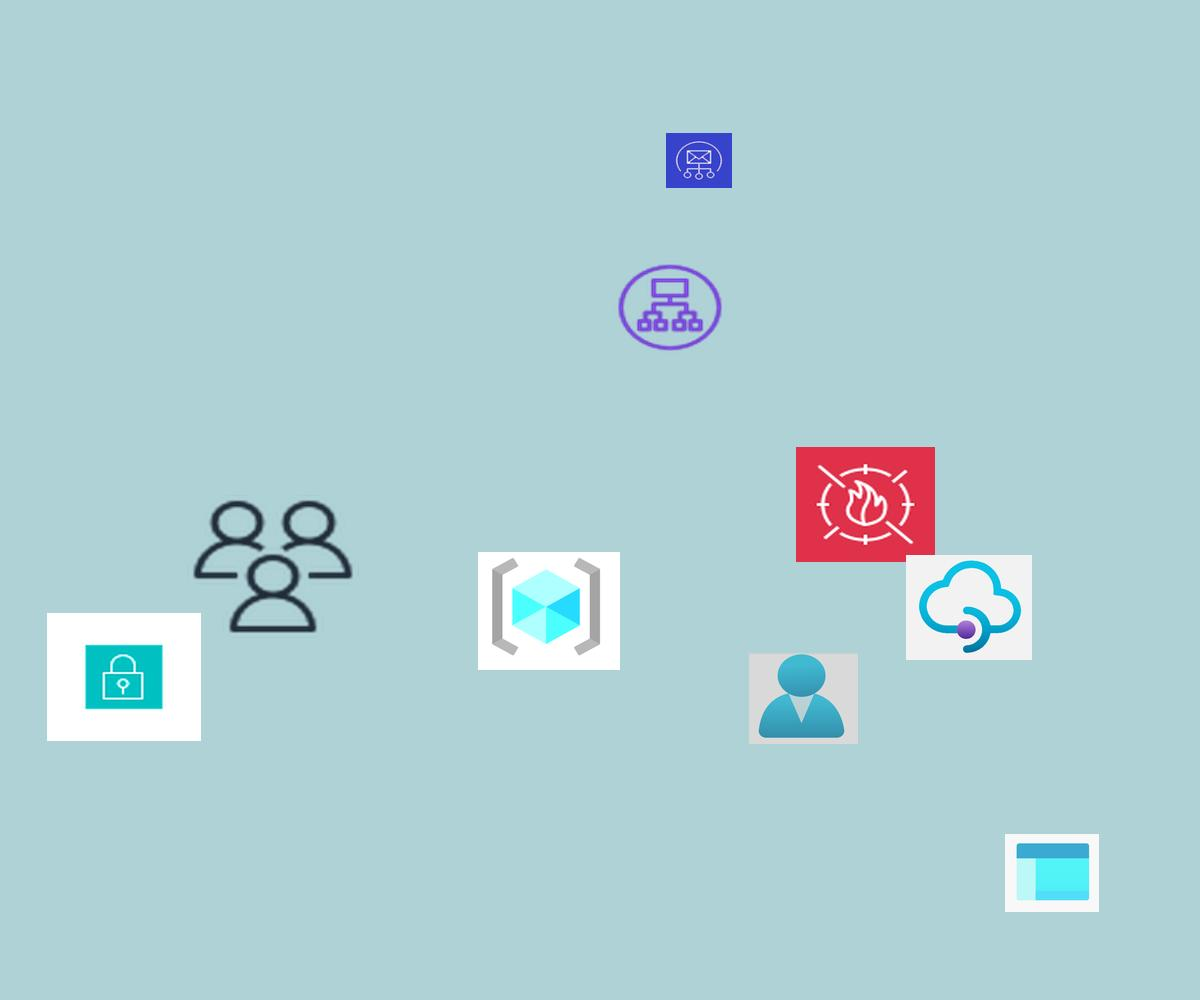AWS-Private-subnet: (47, 613, 201, 741)
AWS-Res_Elastic-Load-Balancing_Application-Load-Balancer: (614, 261, 726, 354)
AWS-Res_Users: (187, 495, 359, 638)
AWS-Simple-Email-Service: (666, 133, 732, 188)
AWS-WAF: (796, 447, 935, 562)
Azure_api_gateway: (906, 555, 1032, 660)
Azure_management-portal: (1005, 834, 1099, 912)
Azure_resource_group: (478, 552, 620, 670)
Azure_users: (749, 653, 858, 744)
